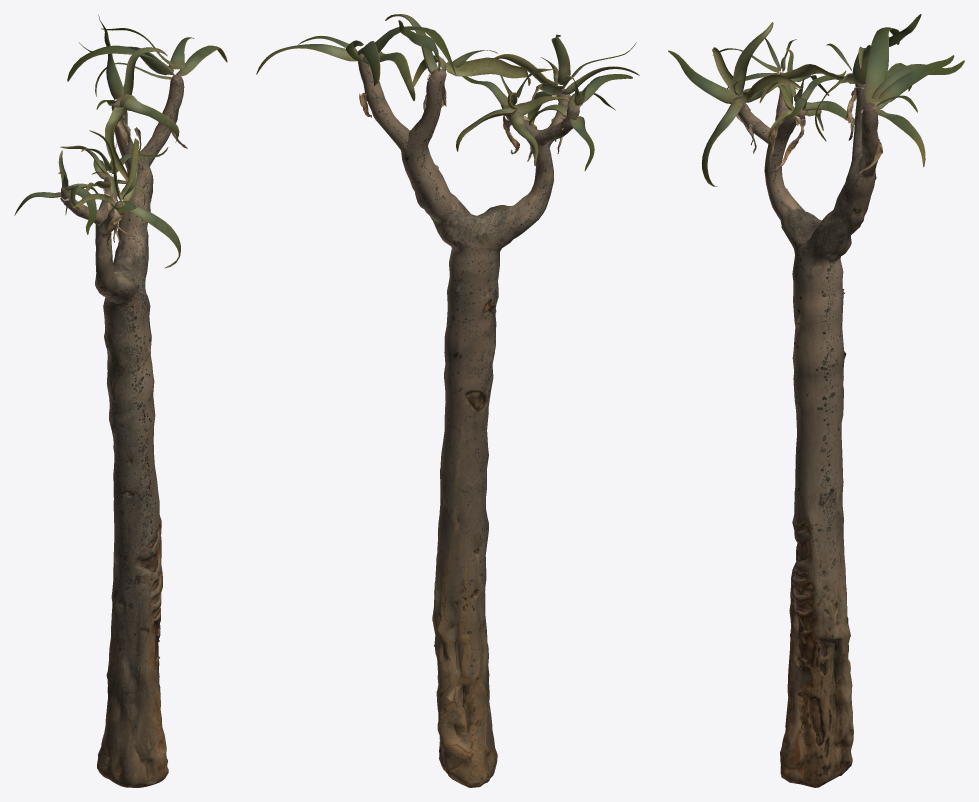
File: QuiverTree.glb
The picture shows the model from 3 angles, left to right: view 1: azimuth 30°, elevation 25°; view 2: azimuth 150°, elevation 25°; view 3: azimuth 270°, elevation 25°; orthographic projection. The views are drawn at different scales.
Visible parts, largest first — view 1: QuiverTree; view 2: QuiverTree; view 3: QuiverTree.
Part boxes in pixels (x1,y1,x2,y2): QuiverTree: (14,14,227,787); QuiverTree: (256,14,639,787); QuiverTree: (668,14,964,787).
Size of the model in its own units: 0.987 by 2.65 by 0.9203.
2 materials, 2 textured.
